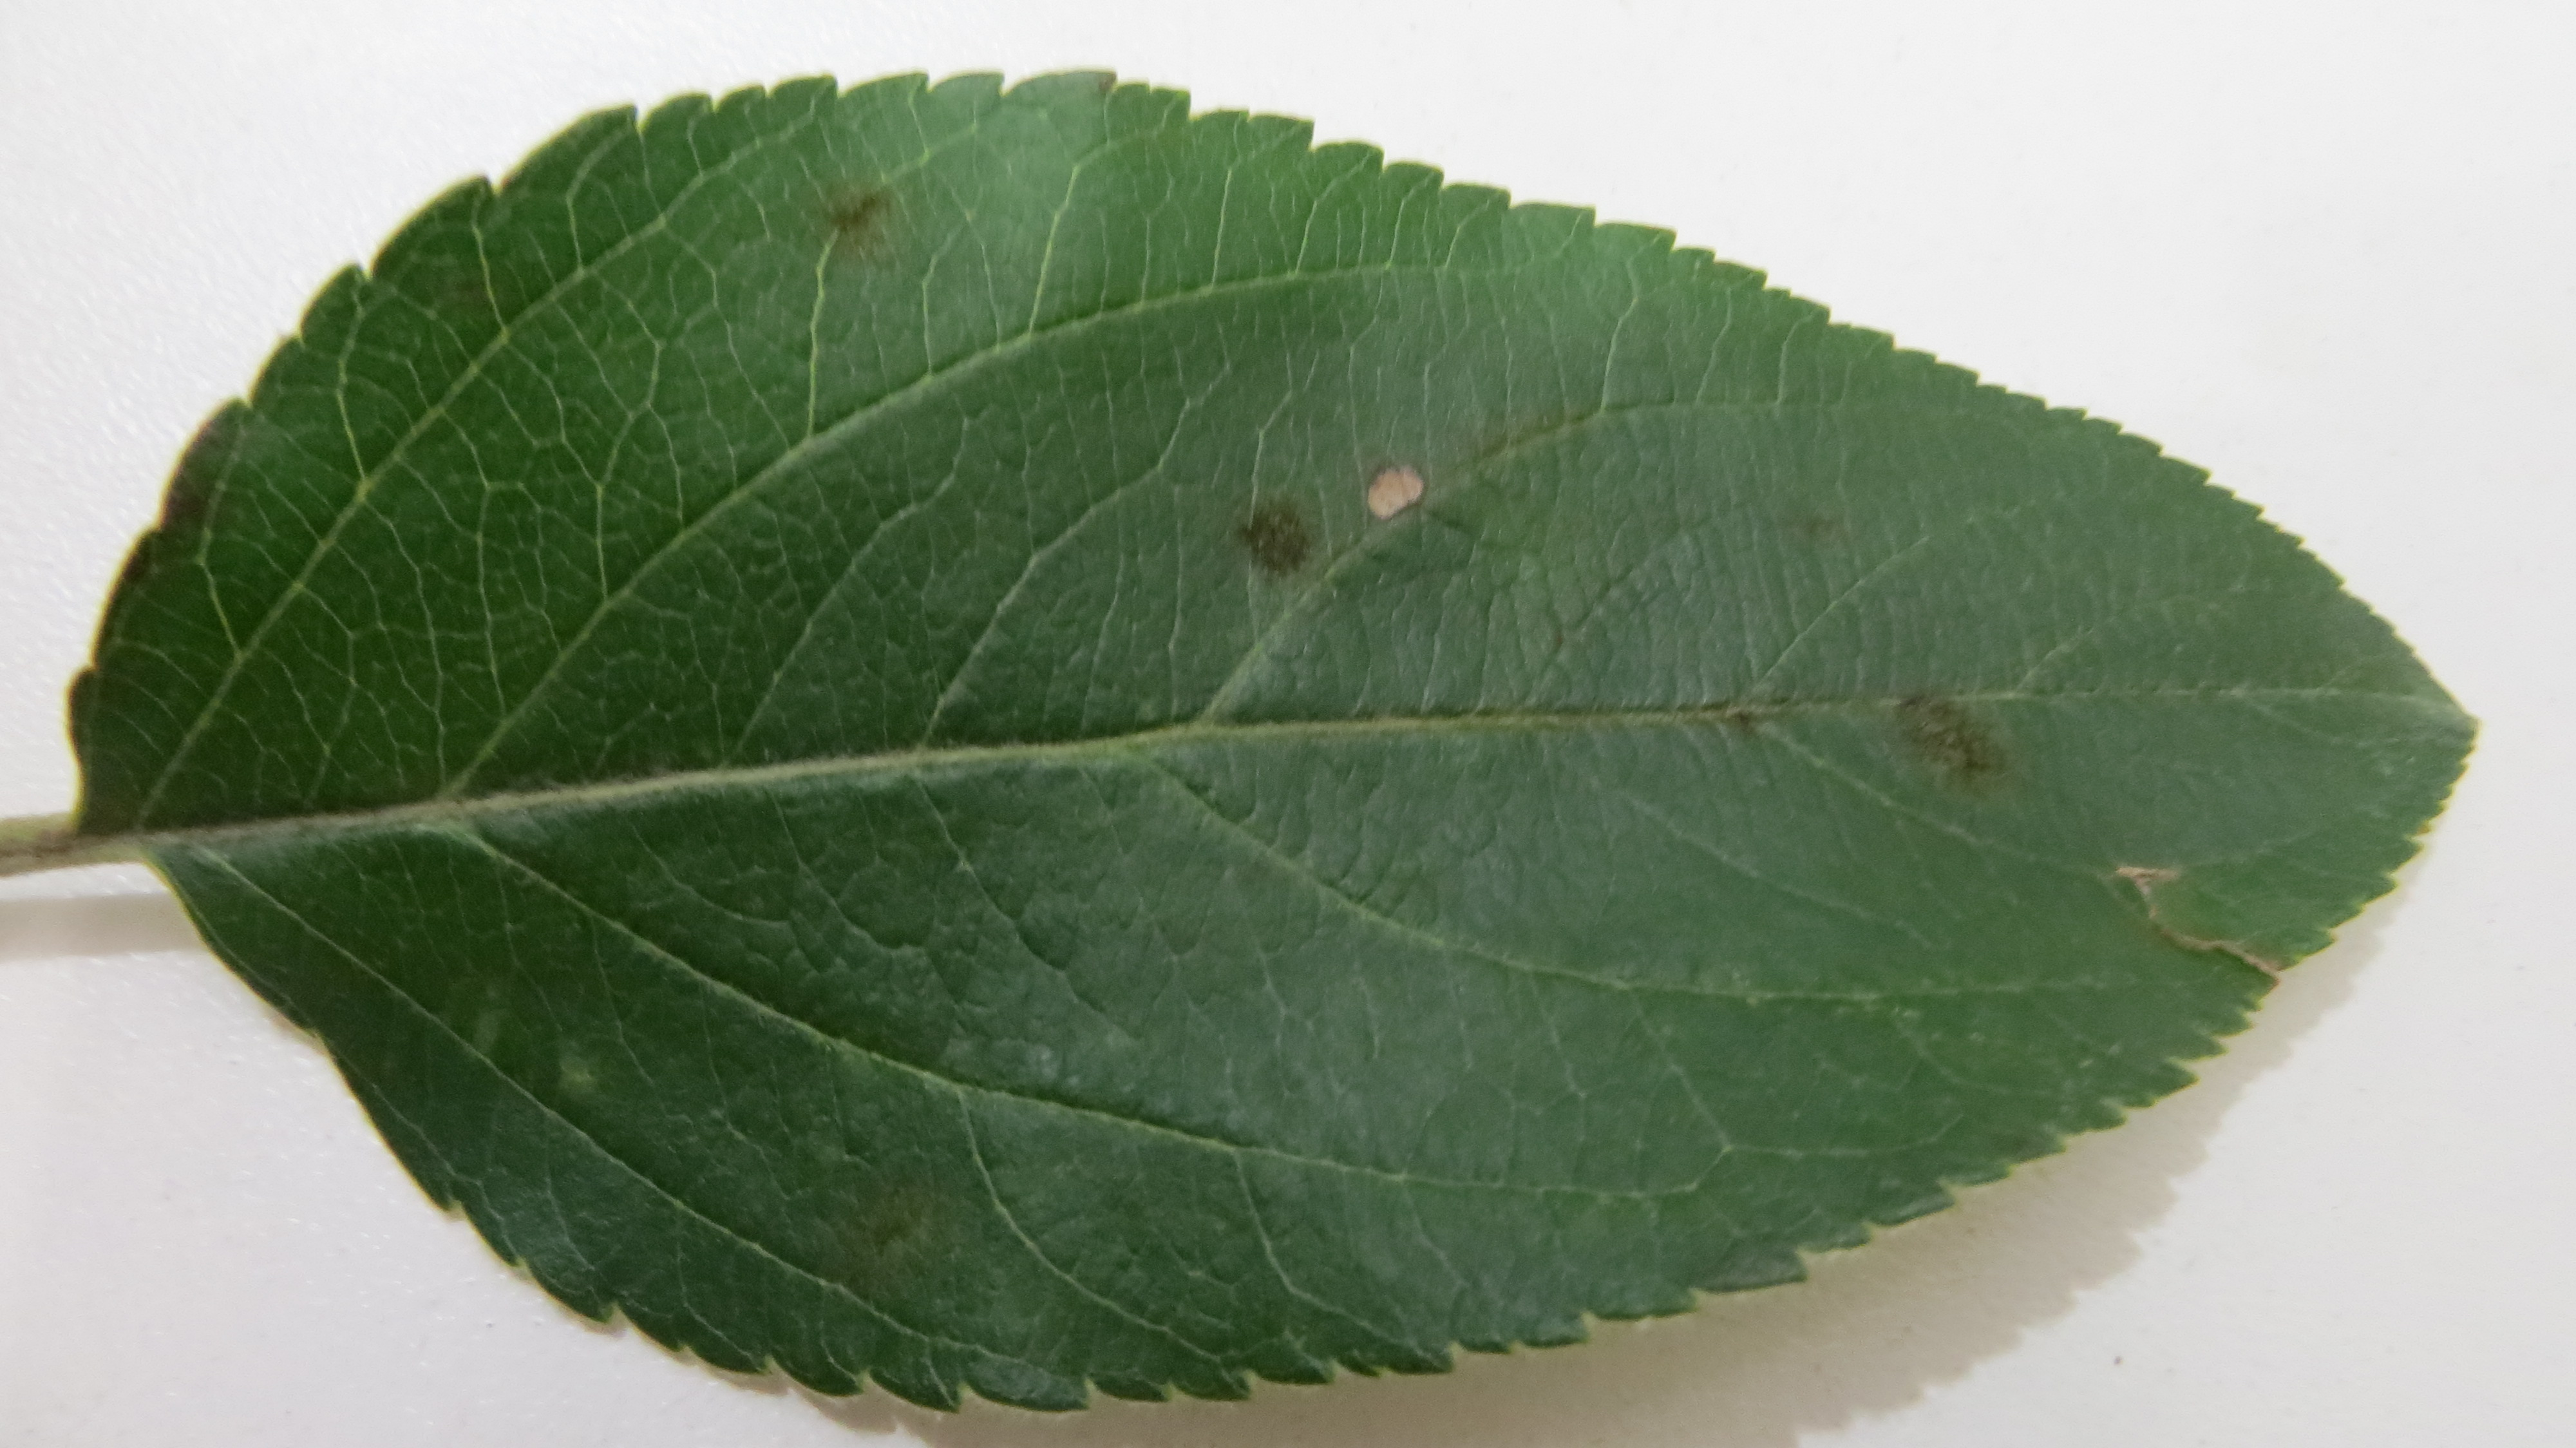sarna: (1870, 678, 2013, 802), (793, 161, 918, 266), (1217, 492, 1330, 589), (1341, 428, 1442, 535)
